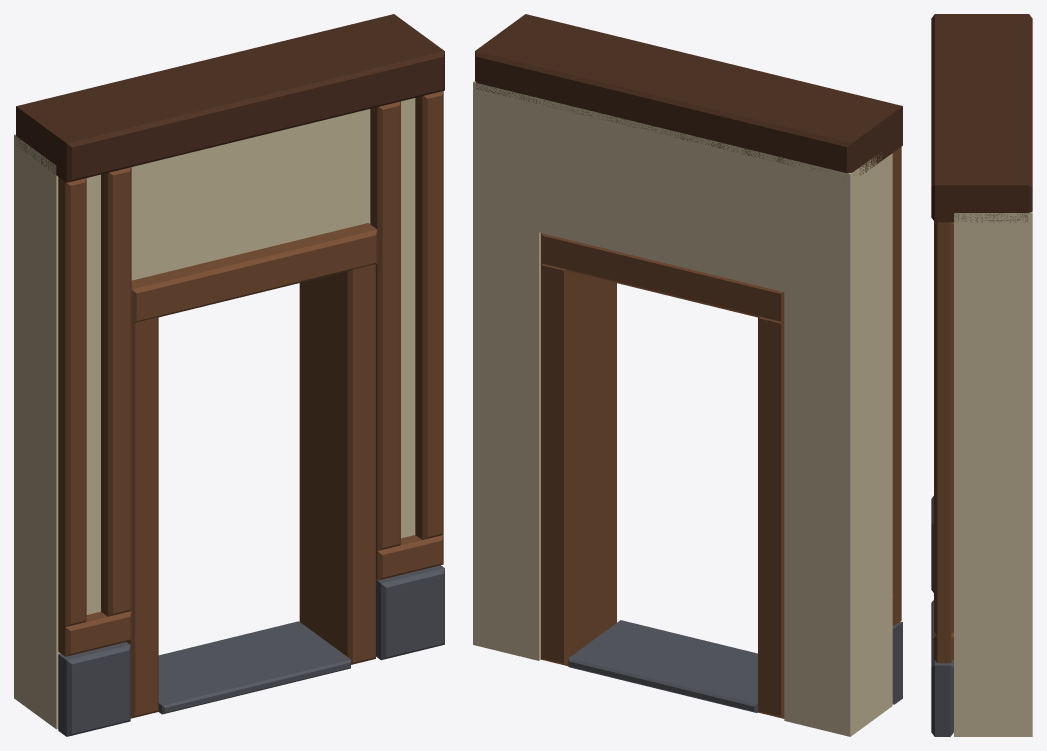
Rendered from WallDoor_03.glb.
3 views of the same model, side by side, from view 1: azimuth 30°, elevation 25°; view 2: azimuth 150°, elevation 25°; view 3: azimuth 270°, elevation 25° (orthographic). The views are drawn at different scales.
Visible parts, largest first — view 1: WallDoor_03; view 2: WallDoor_03; view 3: WallDoor_03.
Boxes of the visible parts, x1,y1,x2,y2 form: WallDoor_03: (14, 14, 444, 736); WallDoor_03: (473, 14, 902, 736); WallDoor_03: (931, 14, 1032, 736).
Bounding box in the file's own units: 8 × 12 × 2.
